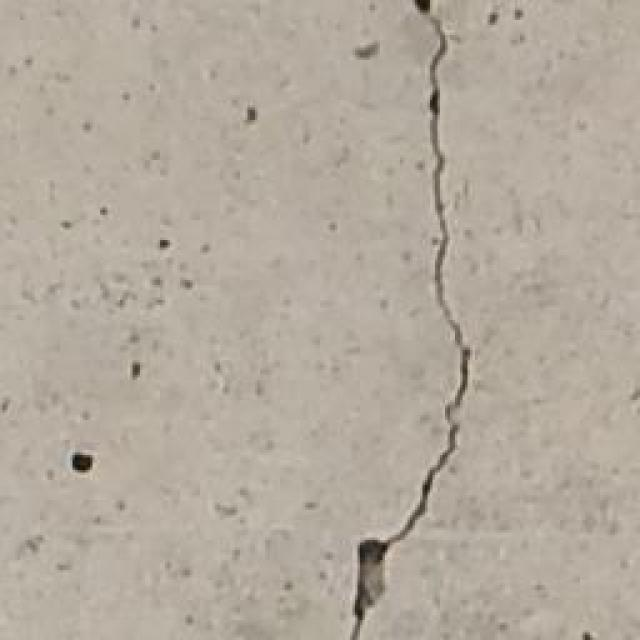concrete-crack: (350, 0, 470, 640)
